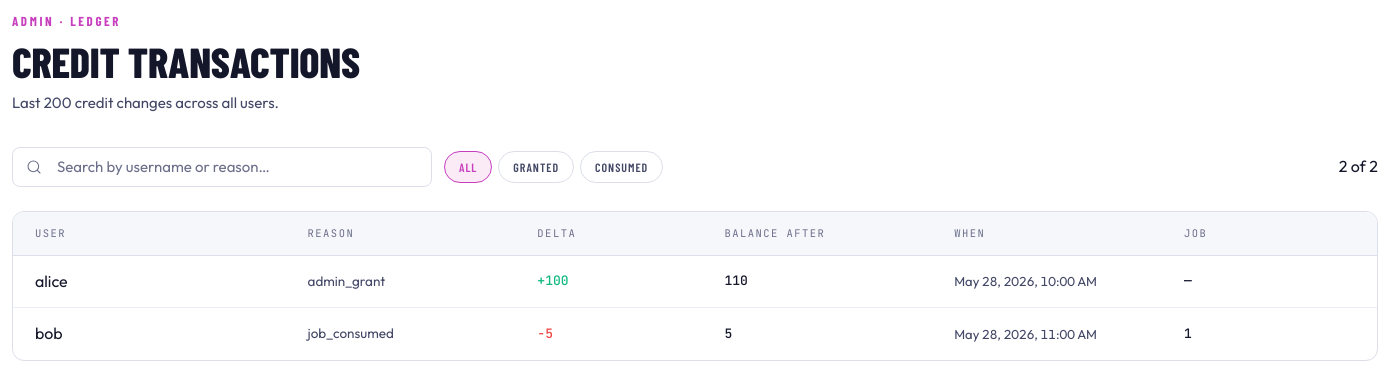
Test: AdminCredits › filters by username search
Check: the element with test id "credits-table" is shown, box left=12, top=211, right=1378, bottom=360
Step 1. Type "bob" into the field with placeholder "Search by username or reason…" → coordinates (222, 167), box left=12, top=147, right=432, bottom=187
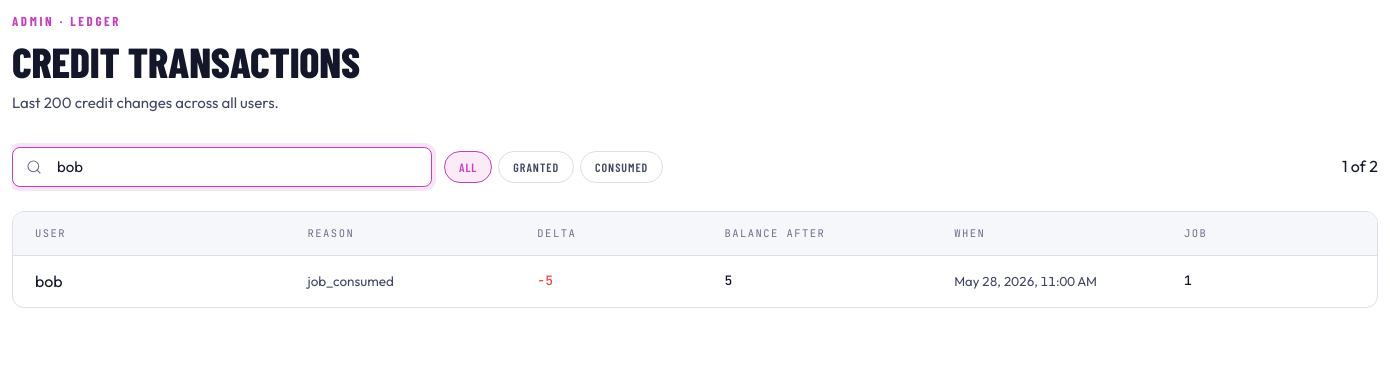
Check: the text "bob" is shown, box left=35, top=271, right=63, bottom=291
Check: the text "alice" is gone
